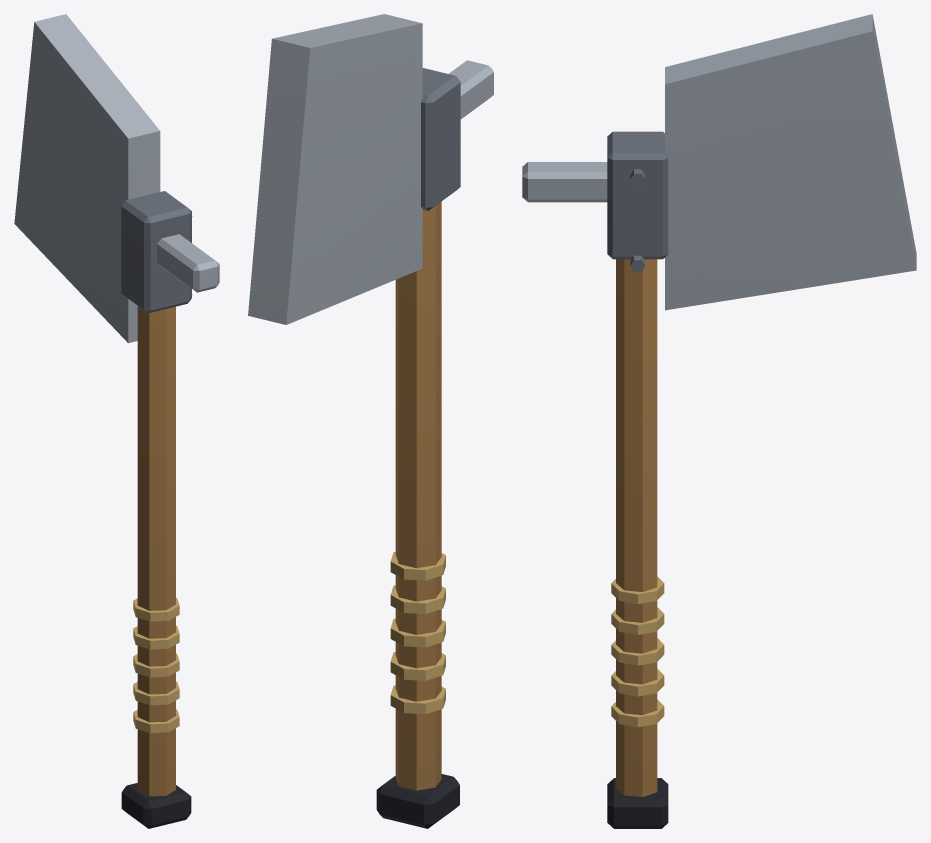
The model's file is item_axe_good.glb.
3 renders of one model, left to right at view 1: azimuth 30°, elevation 25°; view 2: azimuth 150°, elevation 25°; view 3: azimuth 270°, elevation 25°, orthographic. The views are drawn at different scales.
Parts seen in each view (by area): view 1: item_axe_good, item_axe_good_detail; view 2: item_axe_good, item_axe_good_detail; view 3: item_axe_good, item_axe_good_detail.
Part boxes in pixels (box(x1,y1,x2,y2)): item_axe_good: box(14, 14, 219, 828); item_axe_good_detail: box(133, 216, 192, 733); item_axe_good: box(248, 14, 493, 828); item_axe_good_detail: box(390, 551, 445, 714); item_axe_good: box(522, 14, 916, 828); item_axe_good_detail: box(611, 169, 664, 727).
Bounding box in the file's own units: 0.106 × 1.29 × 0.5804.
